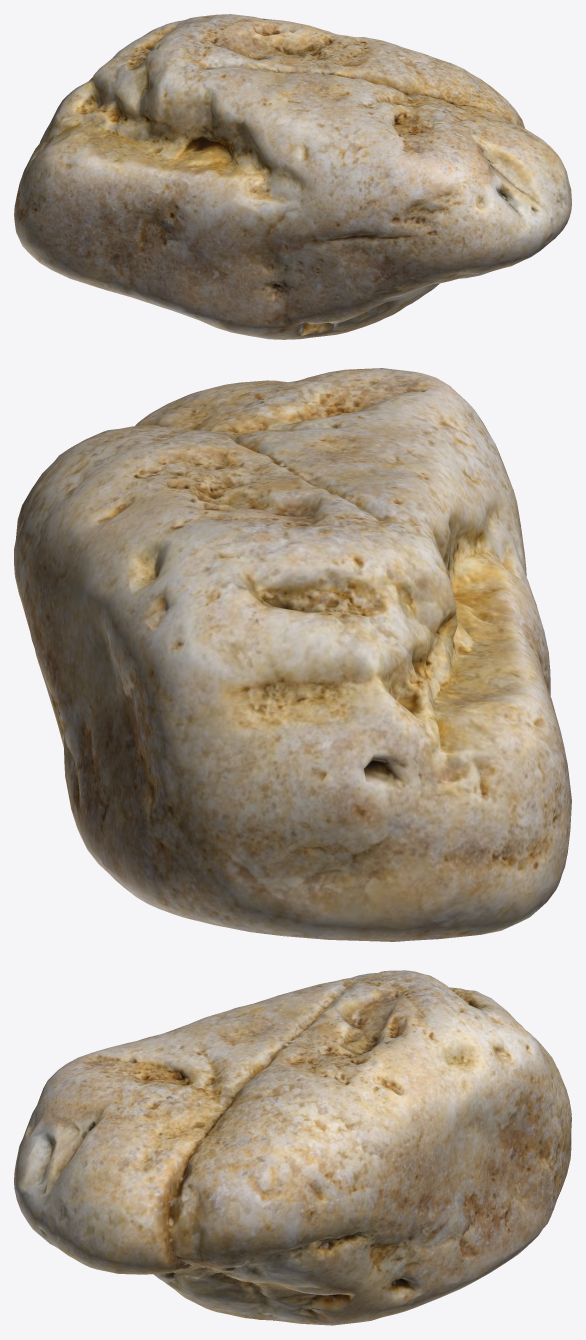
3 views of the same model, one above another, from view 1: azimuth 30°, elevation 25°; view 2: azimuth 150°, elevation 25°; view 3: azimuth 270°, elevation 25° (orthographic). The views are drawn at different scales.
Visible parts, largest first — view 1: rock-016; view 2: rock-016; view 3: rock-016.
Boxes of the visible parts, box(x1,y1,x2,y2) form: rock-016: box(14, 14, 571, 339); rock-016: box(14, 368, 571, 941); rock-016: box(14, 970, 571, 1325).
Size of the model in its own units: 1.88 by 1.09 by 2.
Materials: 1 (1 with a texture image).
